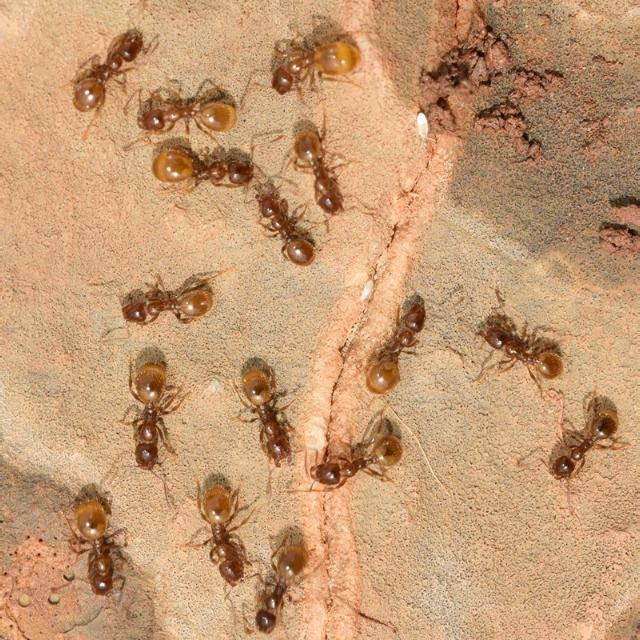Apheanogaster: (350, 292, 438, 406), (280, 124, 378, 222), (180, 474, 256, 596), (226, 356, 304, 474), (302, 420, 413, 502), (65, 21, 155, 121), (260, 26, 372, 104), (535, 399, 627, 491), (471, 313, 573, 395), (116, 352, 182, 478), (242, 534, 316, 636), (60, 488, 130, 594), (110, 276, 220, 342), (147, 140, 263, 202), (131, 86, 245, 146), (248, 186, 322, 274)
